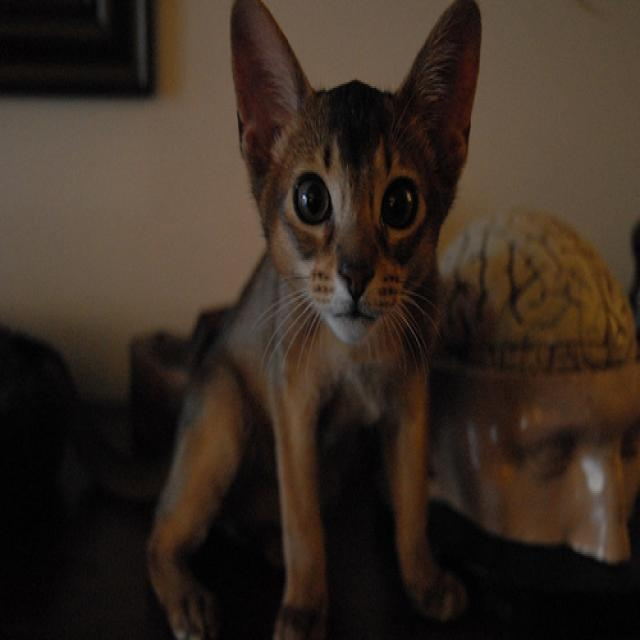Abyssinian: (228, 0, 484, 350)
